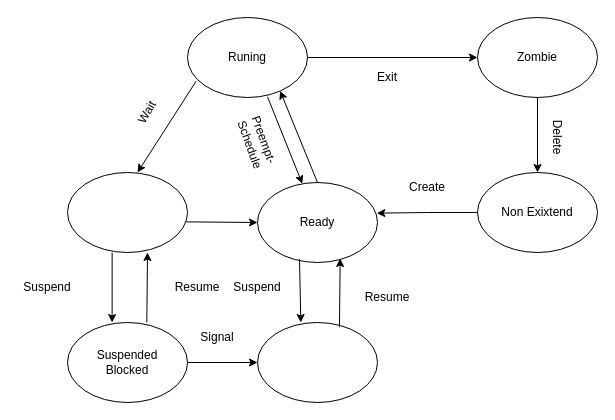
The diagram is 615 pixels wide and 420 high, and some of its shapes have lost their labels. Each missing label, with the centre of its shape:
"Blocked" goes at point 127,212.
"Suspended Ready" goes at point 317,362.
